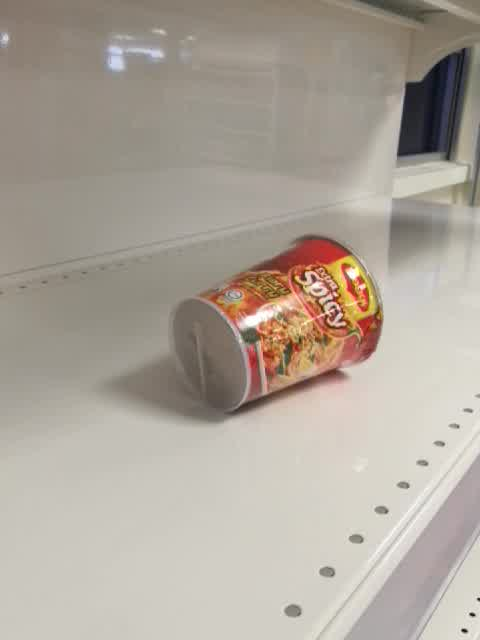maggi: (168, 232, 385, 414)
